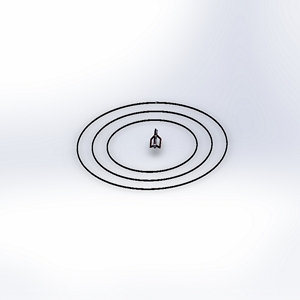circle: (65, 97, 233, 200)
submarine: (142, 125, 169, 155)
